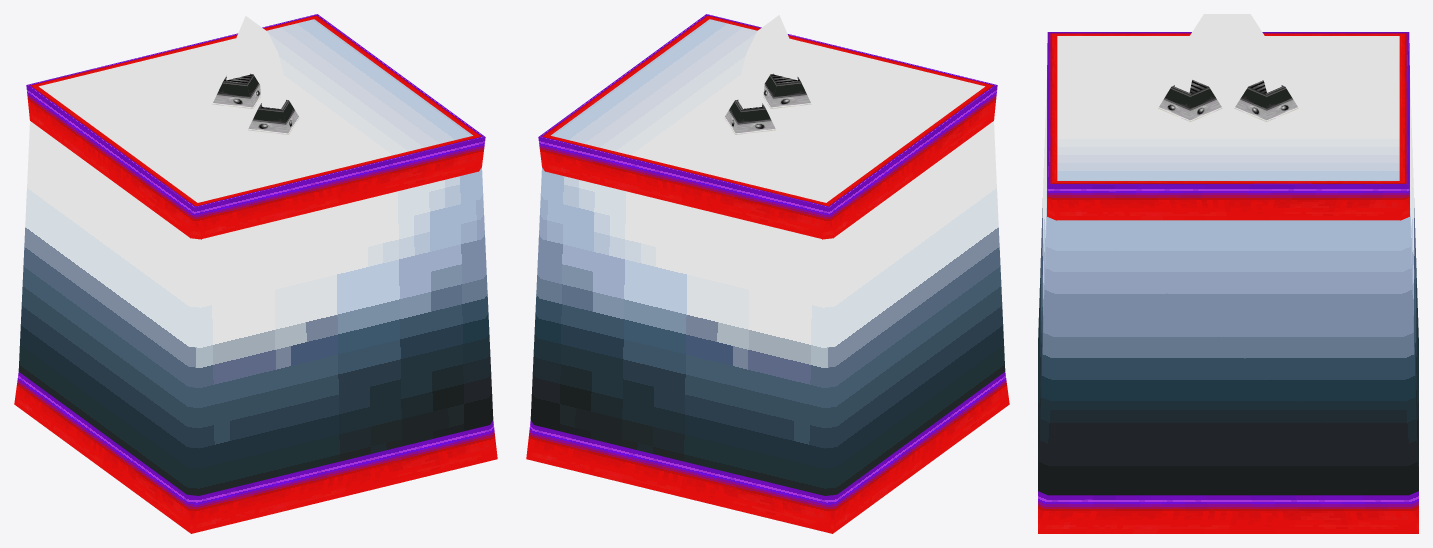
The model's file is BunchinSmall.obj.
3 renders of one model, left to right at view 1: azimuth 30°, elevation 25°; view 2: azimuth 150°, elevation 25°; view 3: azimuth 270°, elevation 25°, orthographic. The views are drawn at different scales.
Size of the model in its own units: 1 by 1.27 by 1.
Materials: 3 (3 with a texture image).
